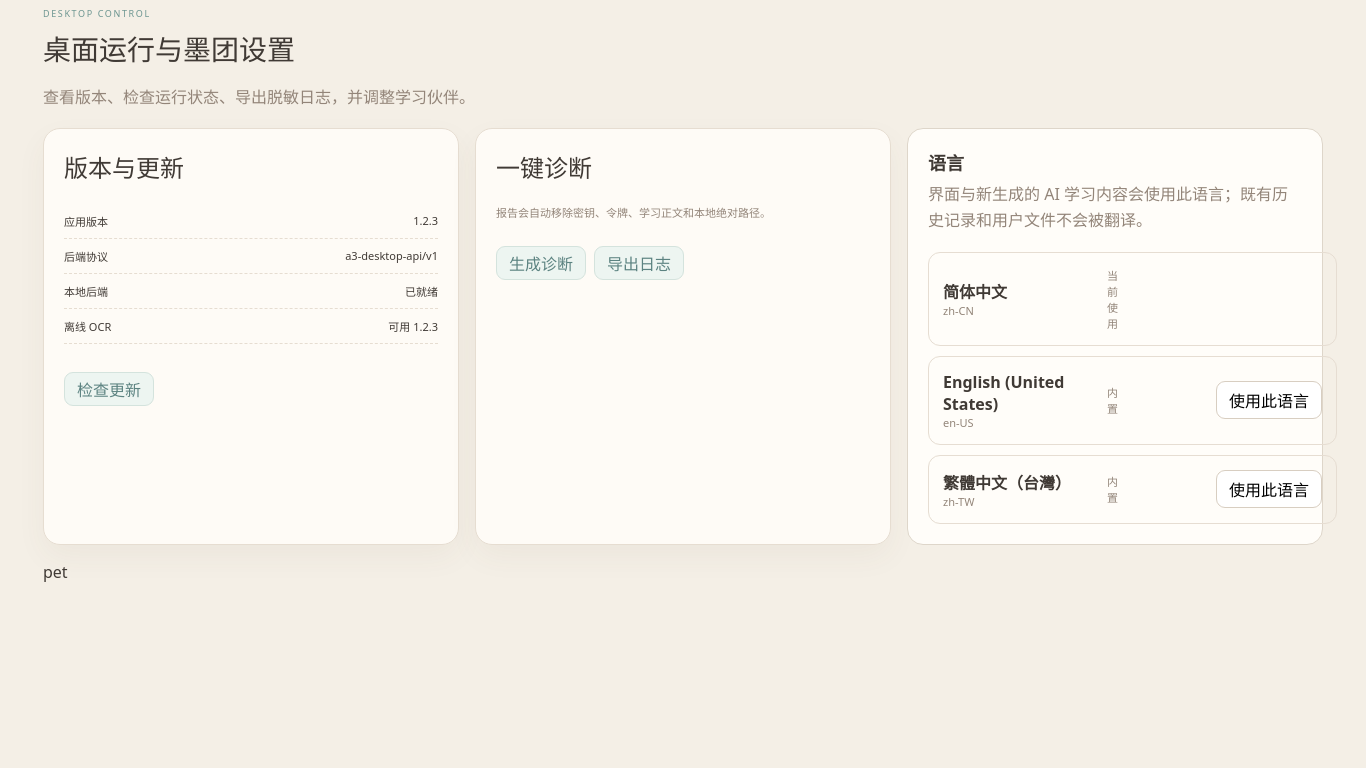
it: shows version status and provides diagnosis log export and update checks
This screenshot has width=1366, height=768.
Click the button with test id "run-desktop-diagnostics".
click(541, 263)  # box [496,246,586,280]
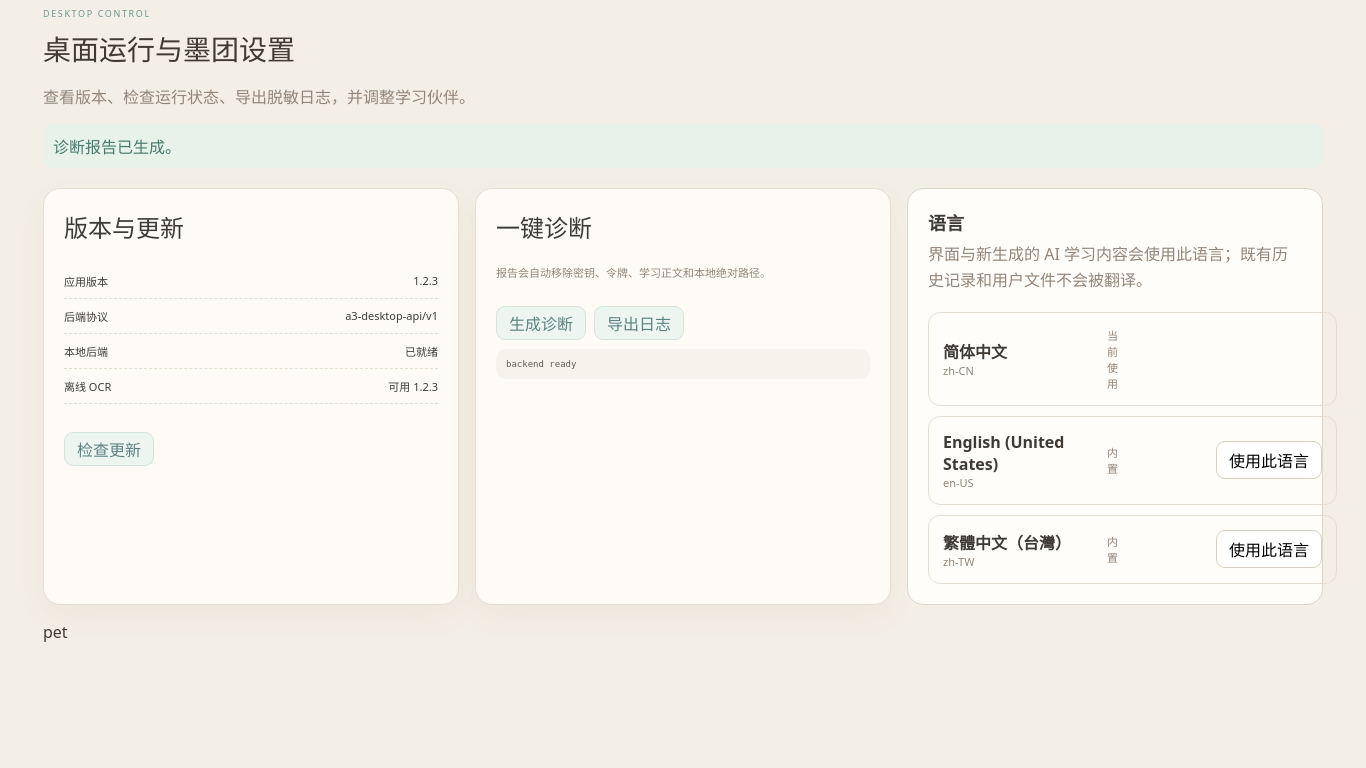
Click the button with test id "export-desktop-diagnostics".
click(639, 323)  # box [594,306,684,340]
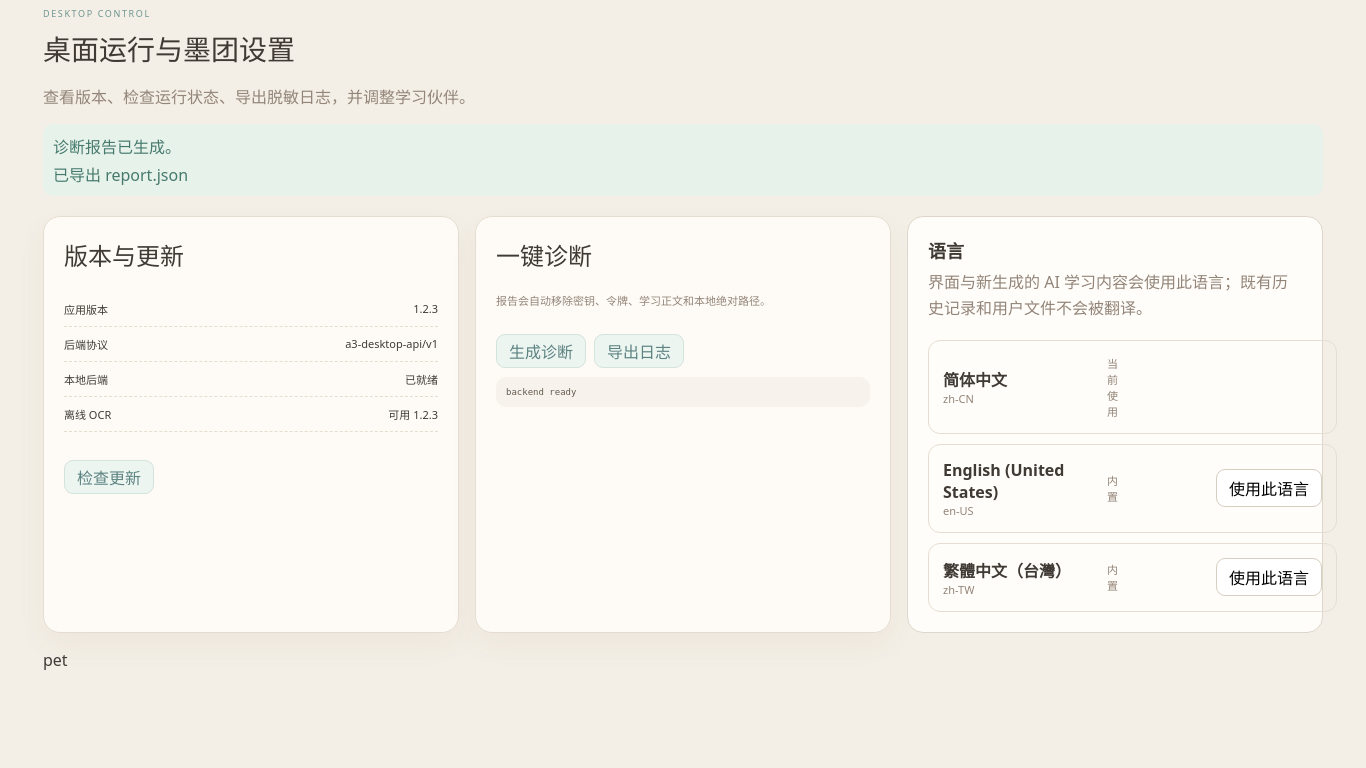
Click the button with test id "check-desktop-updates".
click(109, 477)  # box [64,460,154,494]
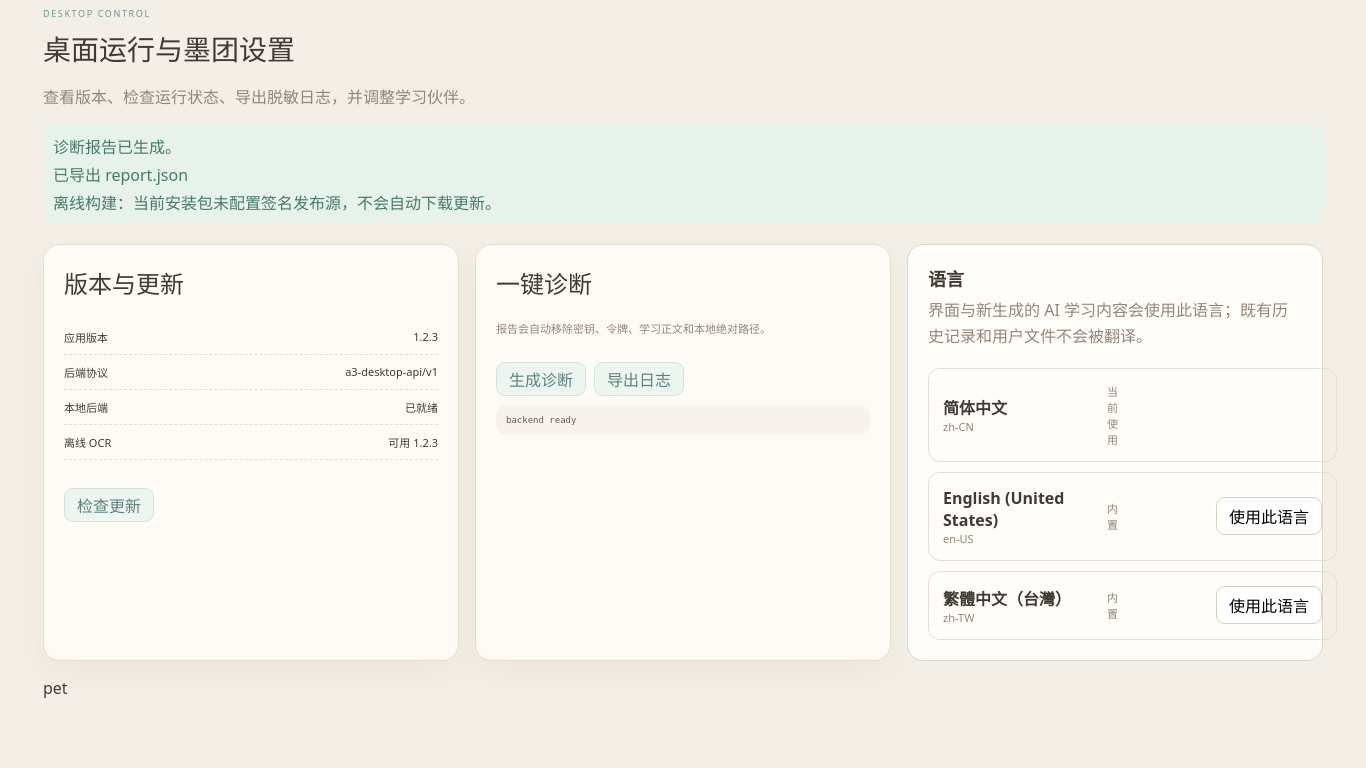
Expected: the text "backend ready" is shown, [496,405,870,435]
Expected: the text "report.json" is shown, [53,164,188,186]
Expected: the text "离线构建" is shown, [53,192,501,214]
